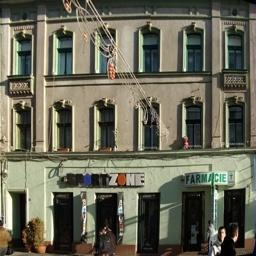building: (5, 0, 256, 238)
